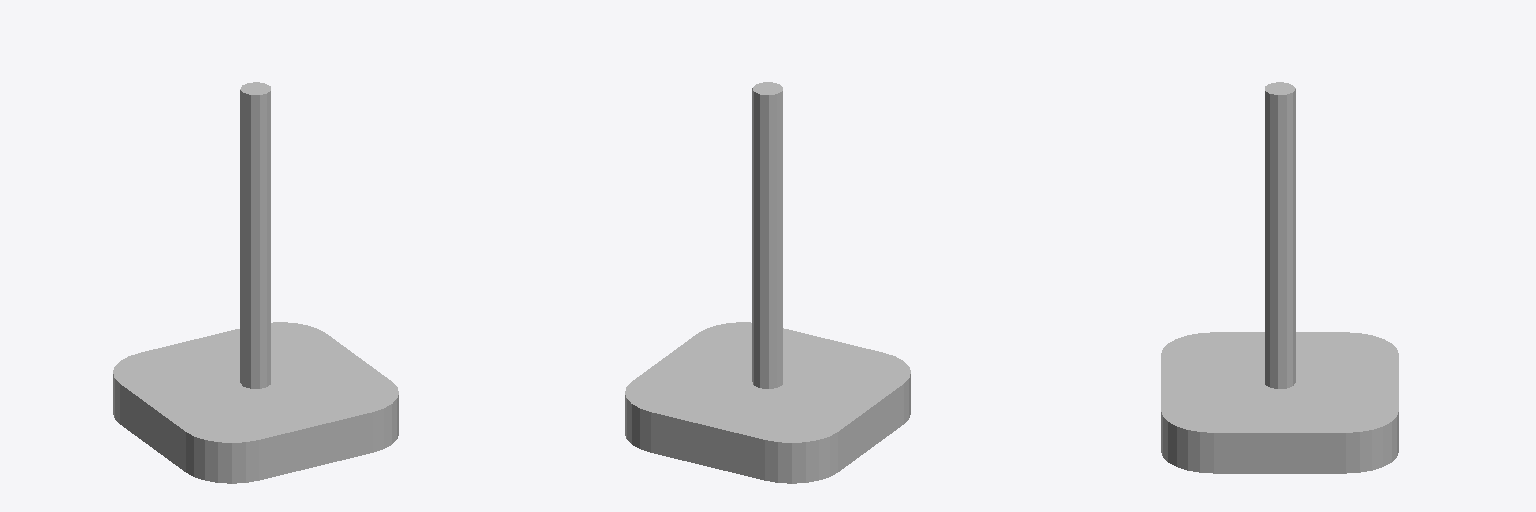
Rendered from Flag.obj.
The picture shows the model from 3 angles: view 1: azimuth 30°, elevation 25°; view 2: azimuth 150°, elevation 25°; view 3: azimuth 270°, elevation 25°; orthographic projection.
Parts seen in each view (by area): view 1: Куб, Цилиндр; view 2: Куб, Цилиндр; view 3: Куб, Цилиндр.
Part boxes in pixels (x1,y1,x2,y2): Куб: (113,322,398,483); Цилиндр: (240,82,270,388); Куб: (625,322,910,483); Цилиндр: (752,82,782,388); Куб: (1161,332,1398,473); Цилиндр: (1265,82,1295,388).
Bounding box in the file's own units: 0.52 × 0.806 × 0.52.